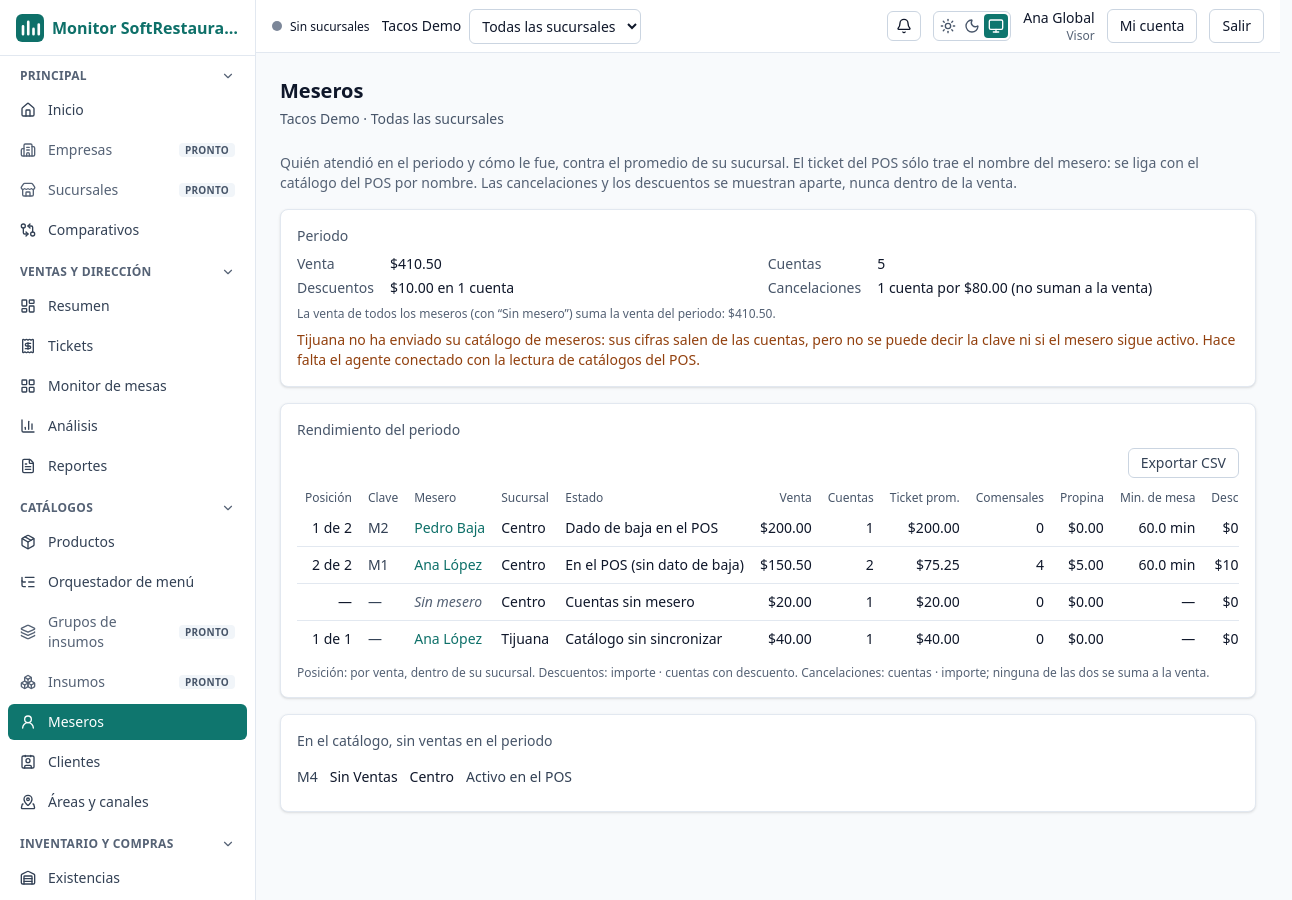
Test: Meseros (F2-231) › la ficha compara contra el promedio de SU sucursal, con texto y no sólo color
This screenshot has width=1292, height=900.
Click the button "Ana López" in the row of "2 de 2" at (448, 565), box [414,555,482,575]
(page scrolled)
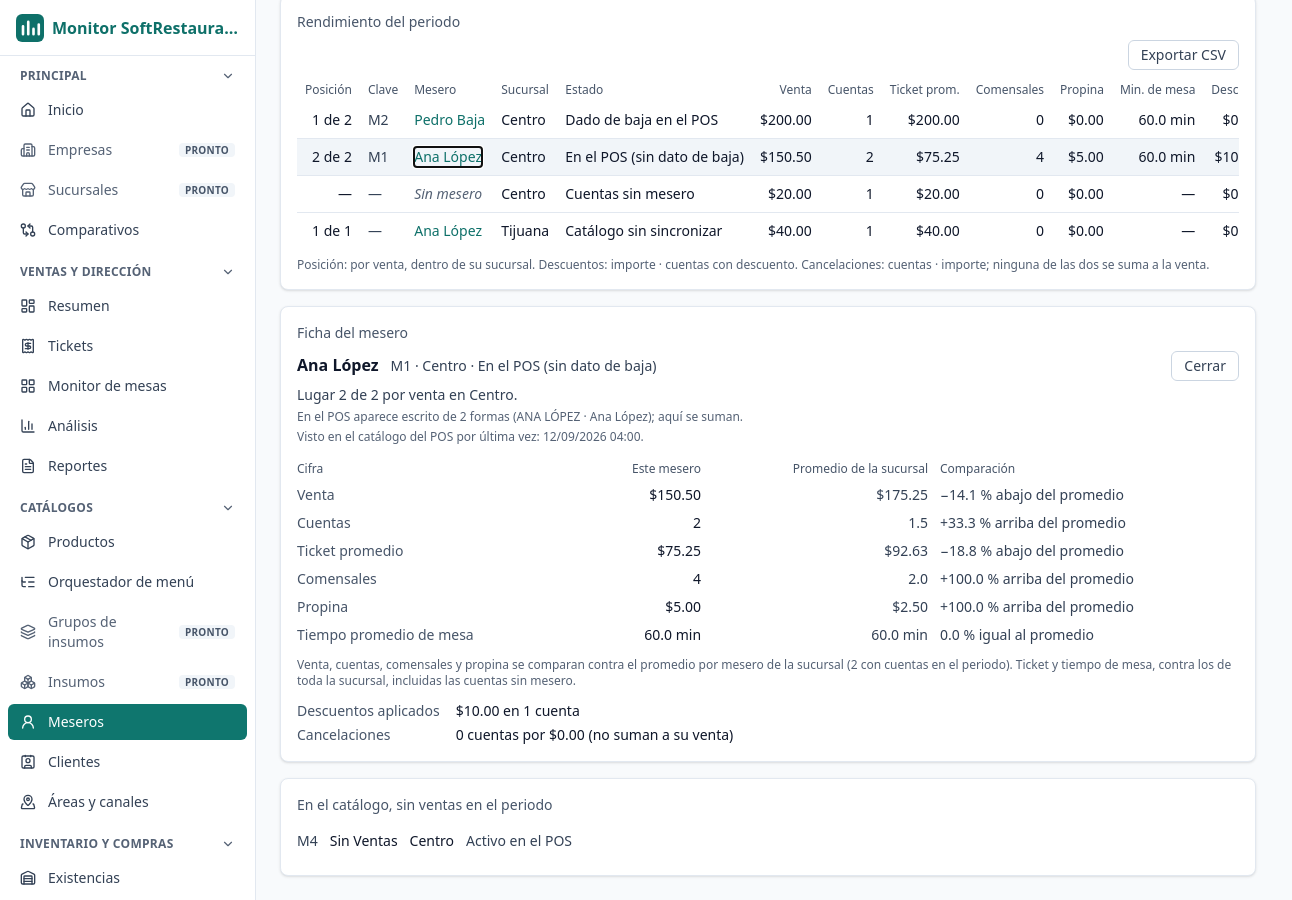
Now the text with test id "ficha-posicion" reads "Lugar 2 de 2 por venta en Centro.", box [297,385,517,404]
Now the text with test id "ficha-descuentos" reads "$10.00 en 1 cuenta", box [456,701,580,720]
Now the element with test id "ficha-mesero" shows "En el POS aparece escrito de 2 formas (ANA LÓPEZ · Ana López)", box [297,351,1239,745]
